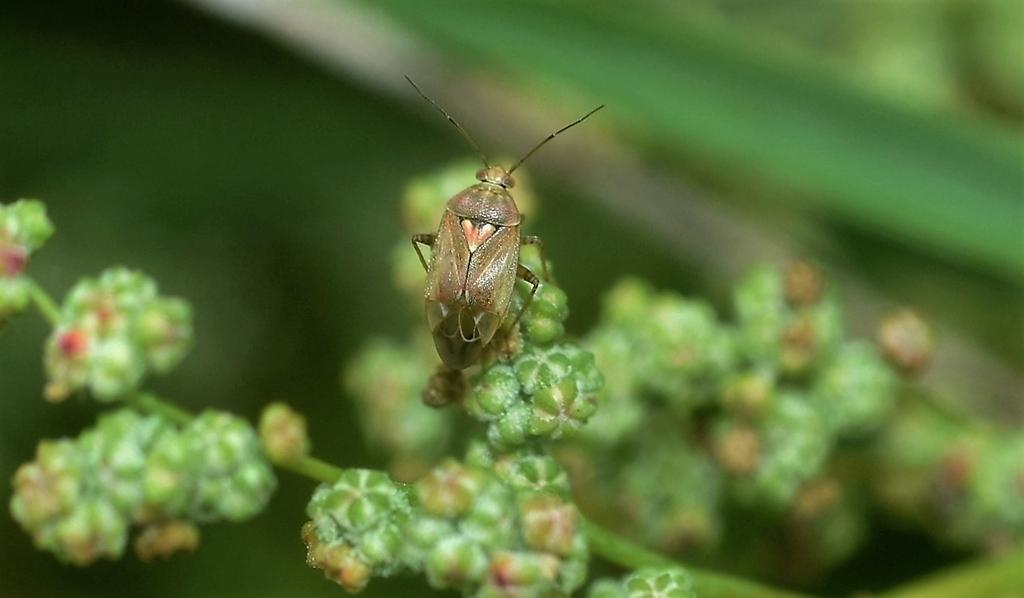plant_bugs: (353, 41, 620, 404)
